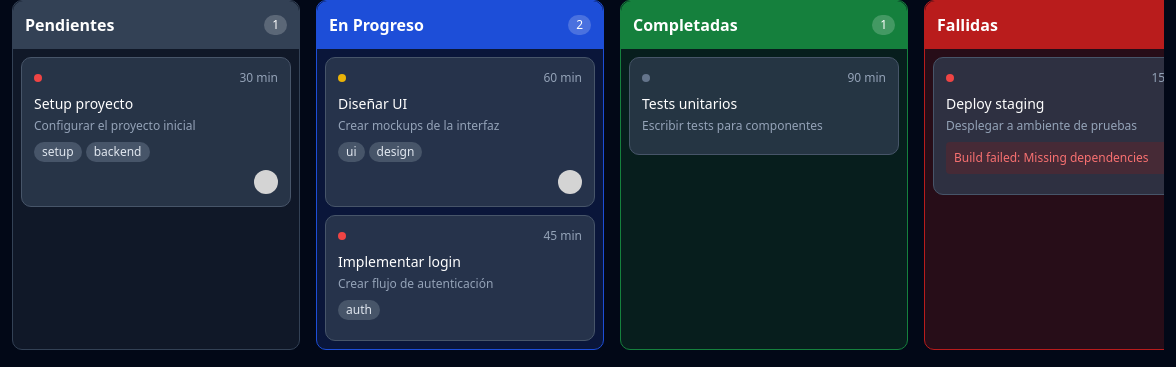
Test: KanbanBoard › Interactions › should show context menu on right-click
Right-click the button with test id "task-card-task-1" at (156, 132), box [21,57,291,207]
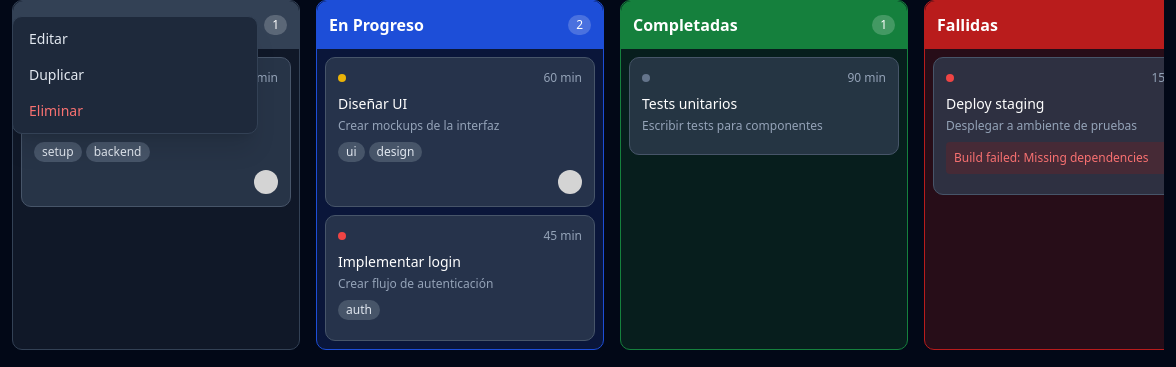
Now the element with test id "context-menu" is shown, box [12,16,258,134]
